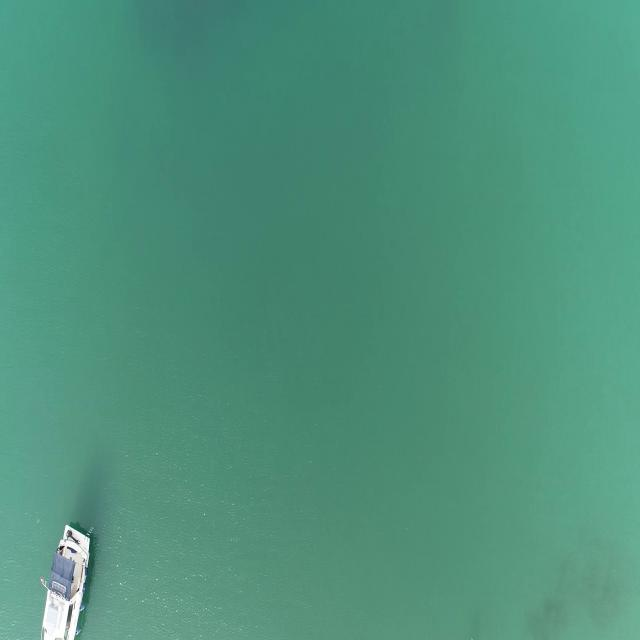boat: (36, 520, 96, 640)
